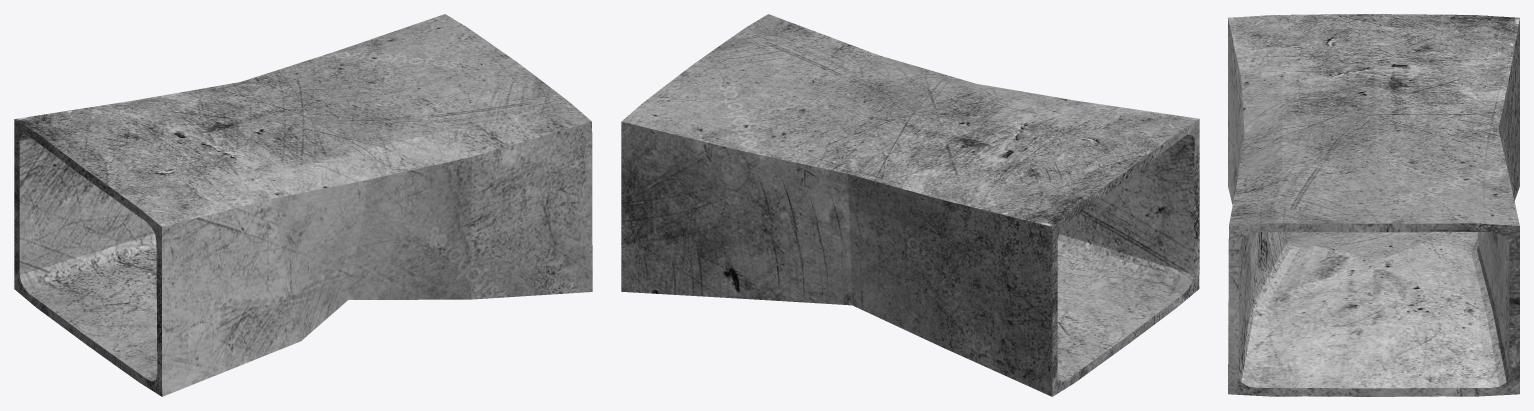
Rendered from vent_broken_new.fbx.
3 views of the same model, side by side, from view 1: azimuth 30°, elevation 25°; view 2: azimuth 150°, elevation 25°; view 3: azimuth 270°, elevation 25° (orthographic).
Parts seen in each view (by area): view 1: Cube.011; view 2: Cube.011; view 3: Cube.011.
Part boxes in pixels (left/top/right/bottom): Cube.011: left=14, top=14, right=592, bottom=396; Cube.011: left=621, top=14, right=1199, bottom=396; Cube.011: left=1228, top=14, right=1519, bottom=396.
Bounding box in the file's own units: 4014 × 1574 × 2355.
